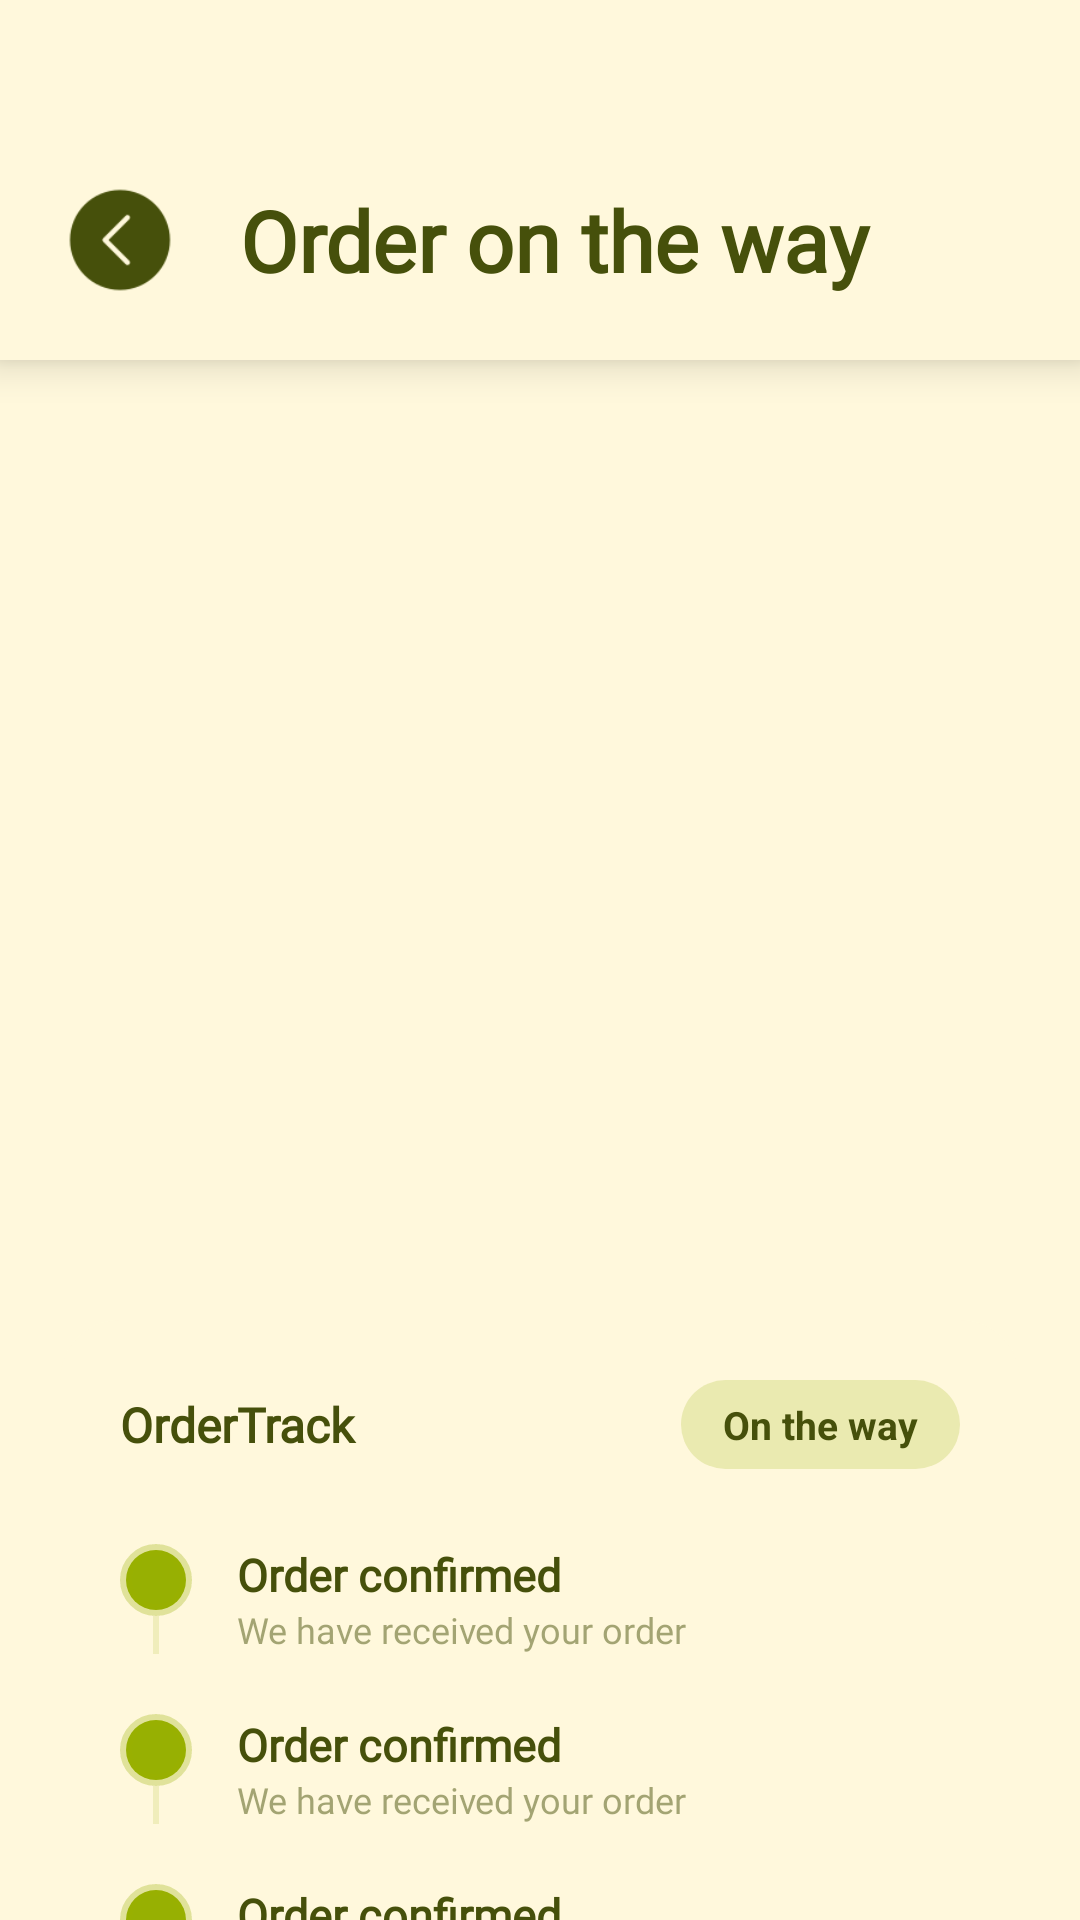

Screen size 1080px x 1920px. Icon name, then its box in pixels as BBox(x1, y1, x2, y2):
Back: BBox(69, 189, 171, 291)
